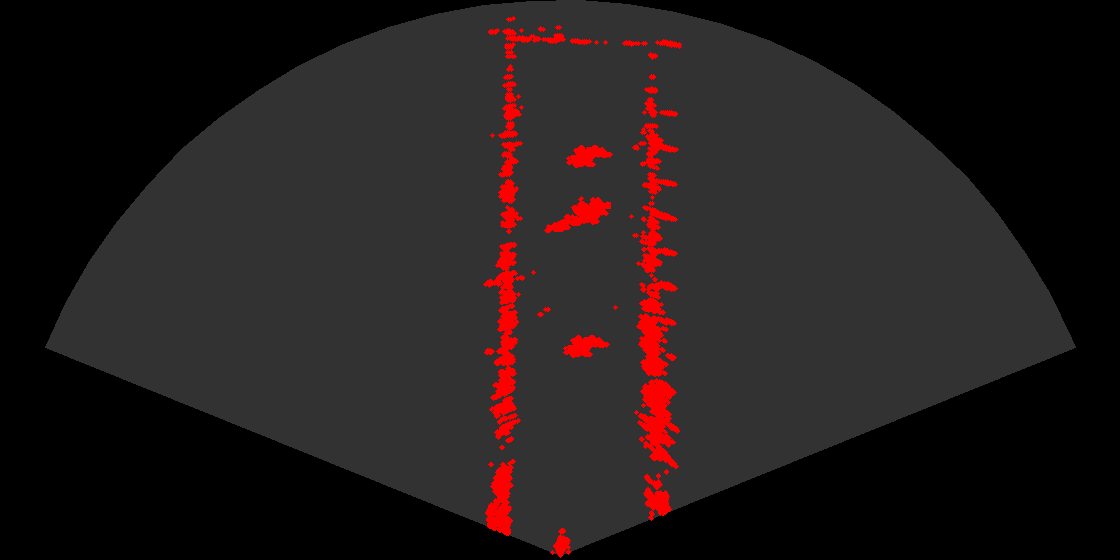AUV: (560, 143, 616, 175), (557, 333, 613, 365)
frogman: (543, 190, 611, 237)
